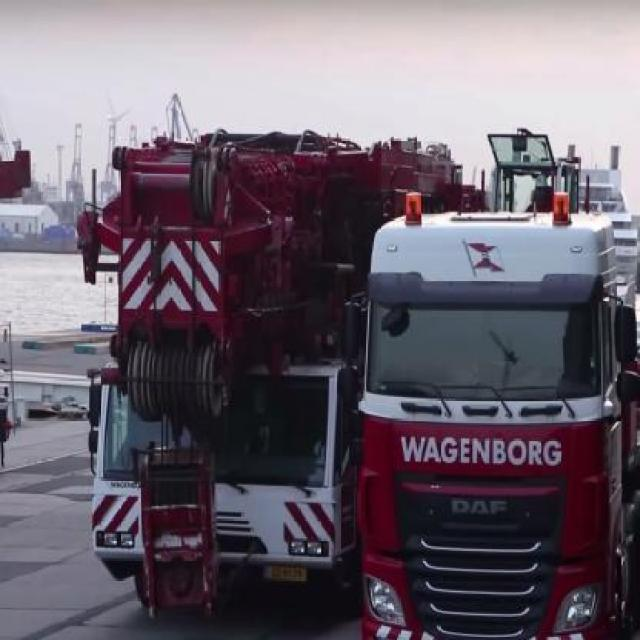Mobile Crane: (363, 126, 639, 639), (83, 133, 362, 602)
